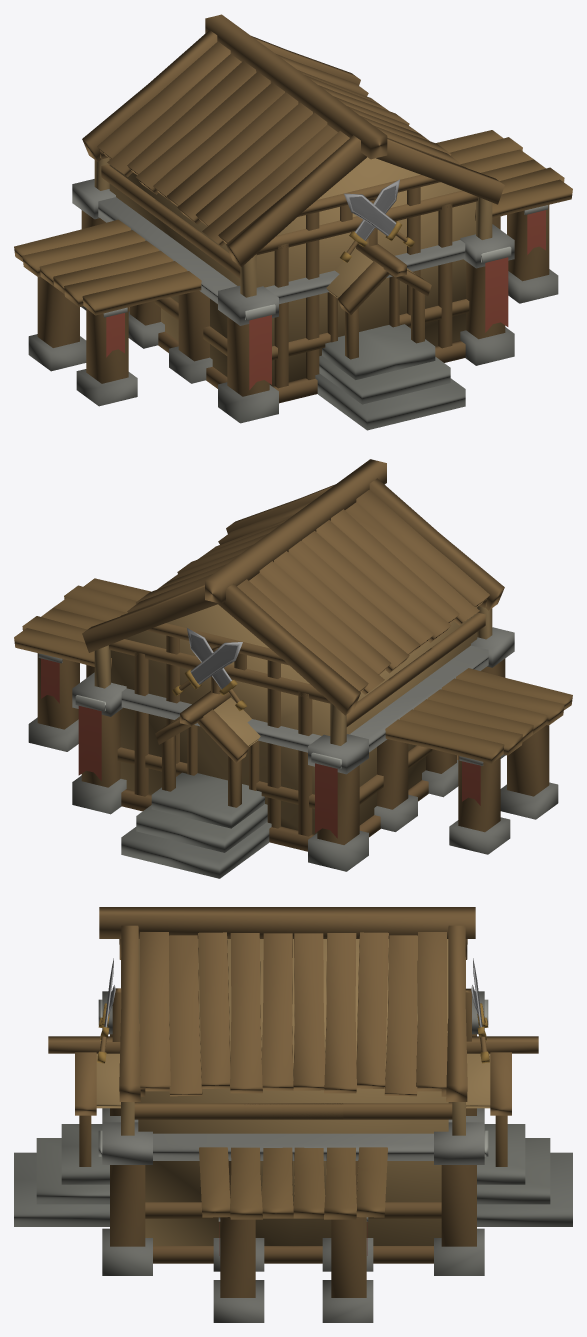
Rendered from tower-1-1.glb.
The picture shows the model from 3 angles, top to bottom: view 1: azimuth 30°, elevation 25°; view 2: azimuth 150°, elevation 25°; view 3: azimuth 270°, elevation 25°; orthographic projection. The views are drawn at different scales.
Parts seen in each view (by area): view 1: tower:1-1; view 2: tower:1-1; view 3: tower:1-1.
Part boxes in pixels (x1,y1,x2,y2): tower:1-1: [14, 14, 572, 430]; tower:1-1: [14, 459, 572, 878]; tower:1-1: [14, 907, 572, 1322].
Size of the model in its own units: 2.4 by 1.2 by 2.1.
